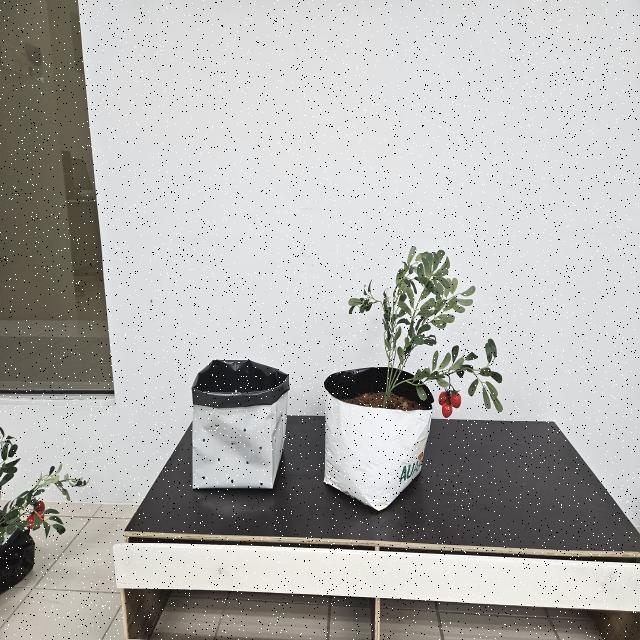Soilbag: (322, 368, 436, 513), (190, 361, 291, 493)
plant: (348, 246, 503, 419)
